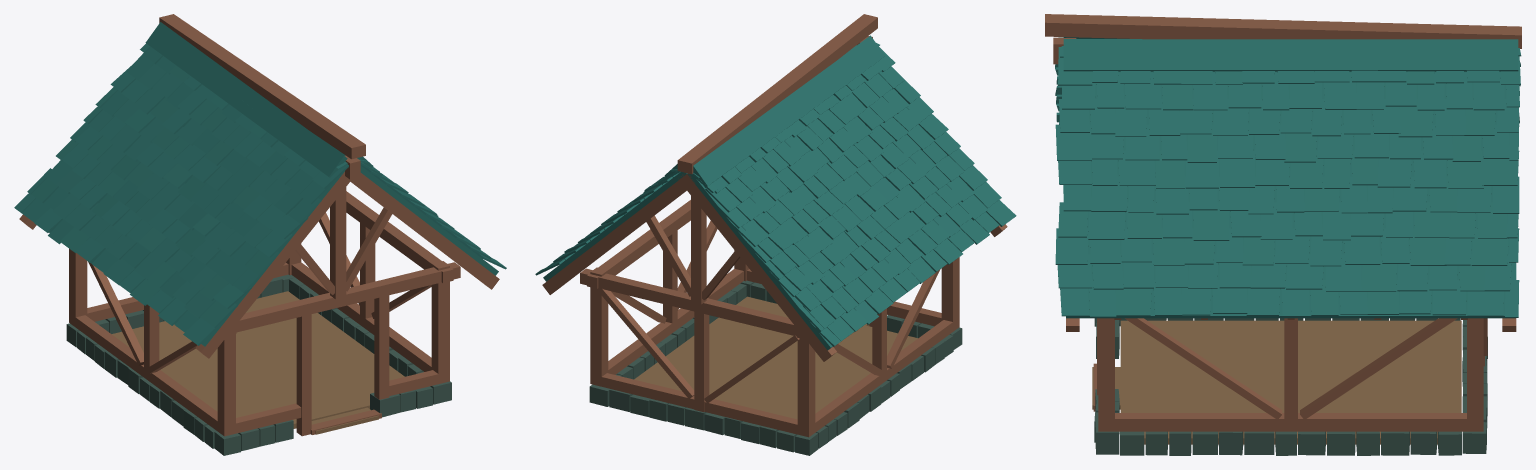
The model's file is cattle-shelter-roof.glb.
3 renders of one model, left to right at view 1: azimuth 30°, elevation 25°; view 2: azimuth 150°, elevation 25°; view 3: azimuth 270°, elevation 25°, orthographic. The views are drawn at different scales.
Visible parts, largest first — view 1: roof_shingles, timber_frame, floor, roof_timbers, stone_footing; view 2: roof_shingles, timber_frame, floor, stone_footing, roof_timbers; view 3: roof_shingles, floor, timber_frame, stone_footing, roof_timbers.
Boxes of the visible parts, bbox=[...] form: roof_shingles: bbox=[14, 22, 506, 346]; timber_frame: bbox=[69, 187, 460, 436]; floor: bbox=[112, 291, 404, 434]; roof_timbers: bbox=[19, 14, 499, 358]; stone_footing: bbox=[66, 274, 451, 455]; roof_shingles: bbox=[535, 35, 1016, 350]; timber_frame: bbox=[580, 196, 959, 437]; floor: bbox=[634, 296, 917, 419]; stone_footing: bbox=[589, 280, 962, 455]; roof_timbers: bbox=[542, 14, 1007, 361]; roof_shingles: bbox=[1055, 37, 1521, 318]; floor: bbox=[1092, 320, 1461, 444]; timber_frame: bbox=[1093, 318, 1487, 431]; stone_footing: bbox=[1094, 318, 1487, 455]; roof_timbers: bbox=[1045, 14, 1521, 331].
Size of the model in its own units: 6.43 by 5.85 by 6.88.
